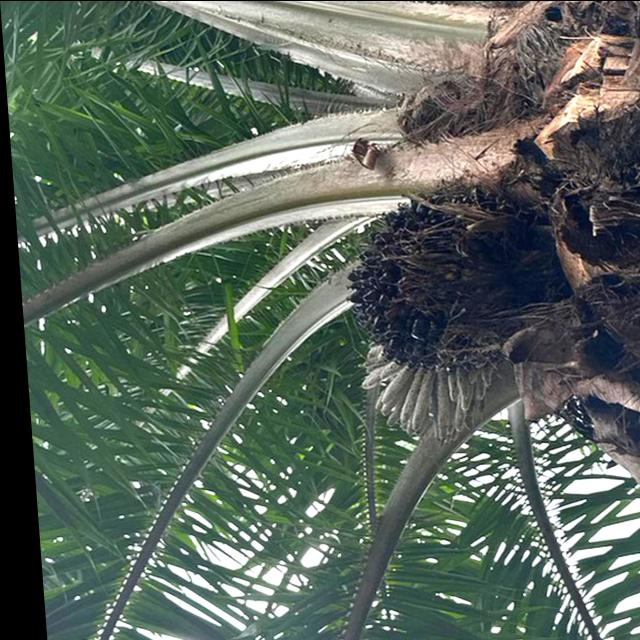unripe: (332, 181, 555, 375)
